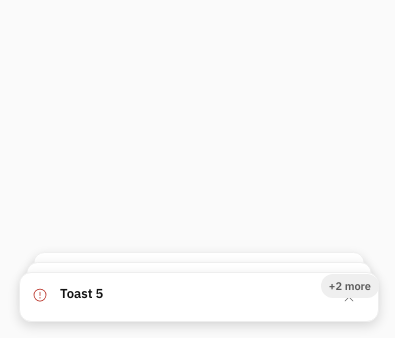
Test: ToastViewport › expands the stack when the pill is clicked
The width and height of the screenshot is (395, 338).
Click the button "+2 more". click: (350, 286)
box: [321,274,379,298]
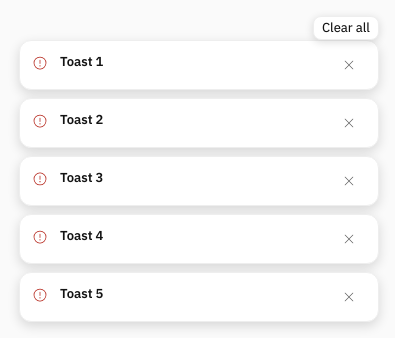
Now the number of messages is 5, box [19,40,379,90]; [19,98,379,148]; [19,156,379,206]; [19,214,379,264]; [19,272,379,322]
